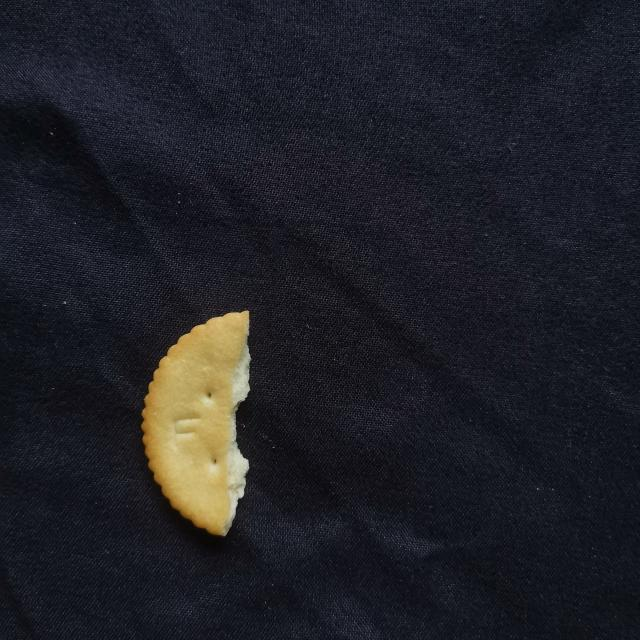Broken: (140, 308, 252, 537)
